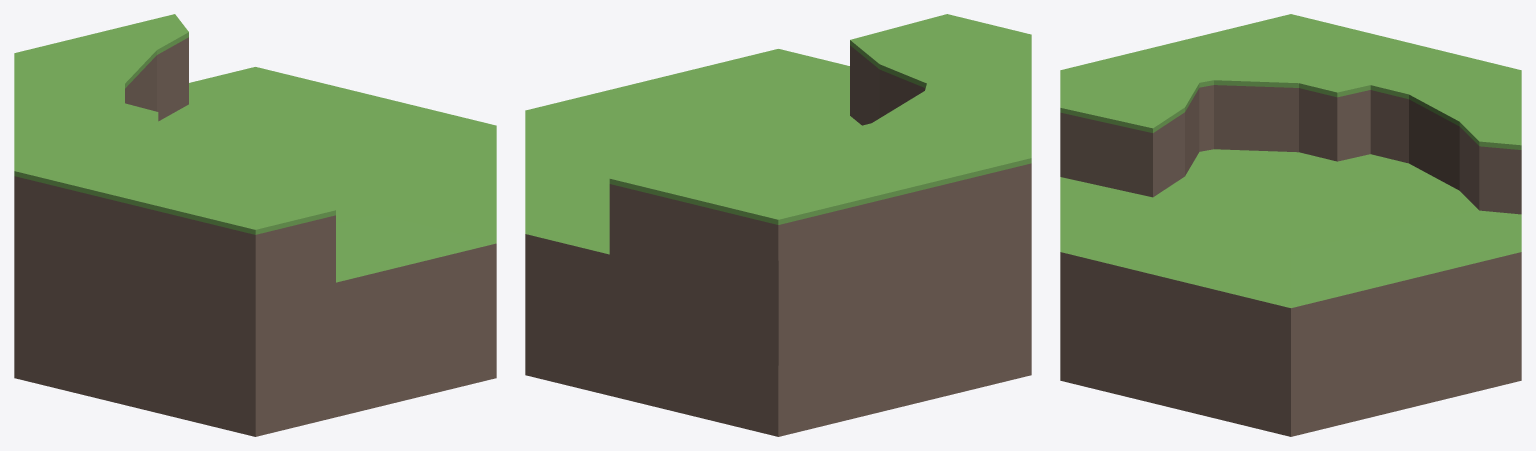
File: tileCliff02.fbx
The picture shows the model from 3 angles, left to right: view 1: azimuth 30°, elevation 25°; view 2: azimuth 150°, elevation 25°; view 3: azimuth 270°, elevation 25°; orthographic projection. The views are drawn at different scales.
Visible parts, largest first — view 1: Tile19; view 2: Tile19; view 3: Tile19.
Part boxes in pixels (x1,y1,x2,y2): Tile19: [14, 14, 496, 436]; Tile19: [525, 14, 1031, 436]; Tile19: [1060, 14, 1521, 436].
Bounding box in the file's own units: 2 × 0.82 × 1.73.
